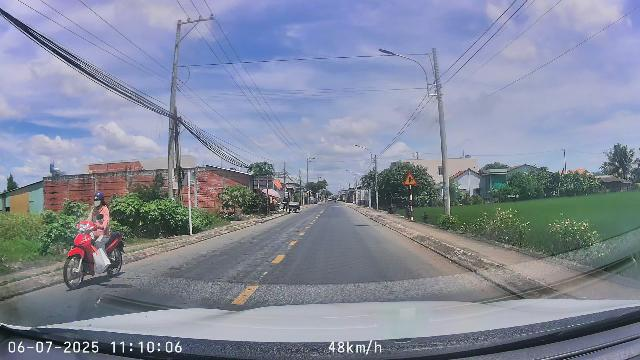207-giao-nhau-voi-duong-khong-uu-tien: (403, 172, 417, 185)
